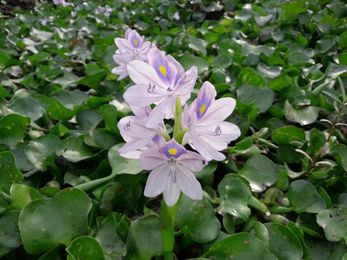water_hyacinth: (0, 29, 347, 260)
